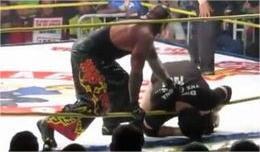bending: (39, 5, 165, 144)
down: (141, 59, 233, 138)
